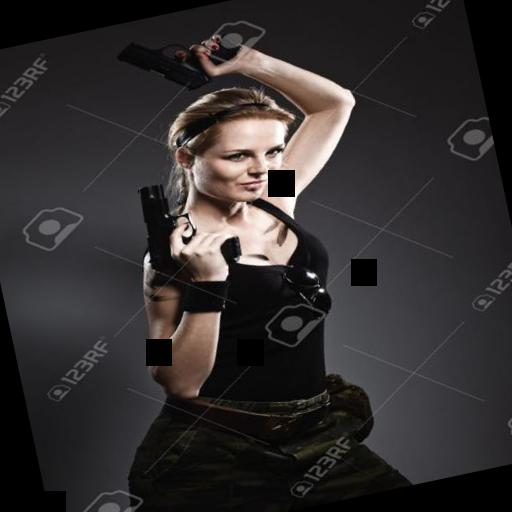Handgun: (130, 166, 246, 280), (110, 12, 252, 102)
